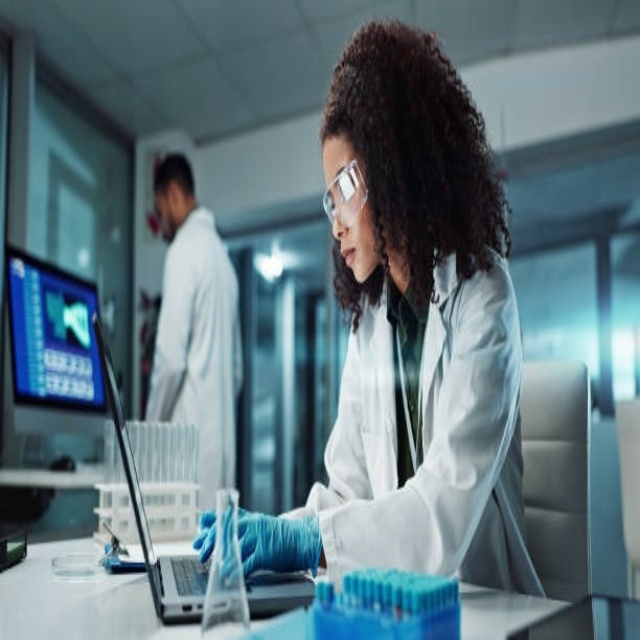Gafas: (323, 159, 370, 229)
Guantes: (196, 503, 323, 579)
Sin_mascara: (339, 240, 366, 281)
